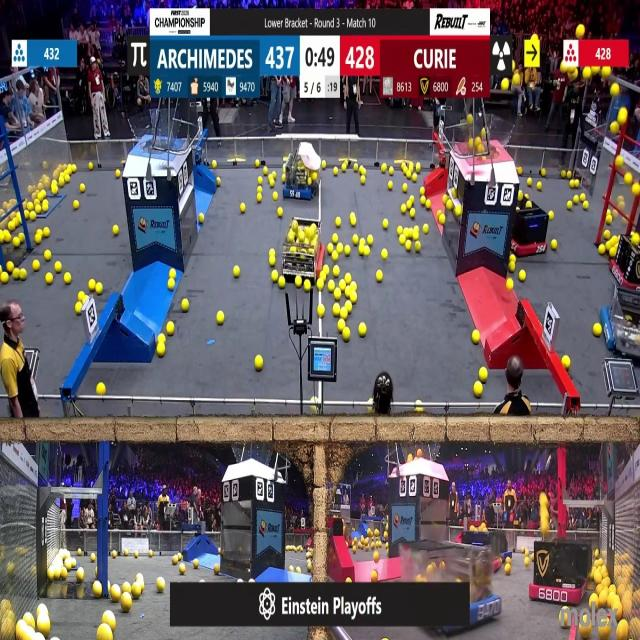ball_airborne: (539, 520, 548, 536), (575, 25, 584, 40), (620, 109, 628, 124), (609, 121, 618, 133), (610, 85, 618, 98), (616, 157, 624, 169), (602, 66, 610, 78), (632, 183, 640, 195), (584, 68, 592, 80), (632, 234, 640, 246), (477, 144, 485, 156), (569, 68, 577, 80), (626, 173, 634, 184), (501, 79, 509, 90), (514, 74, 521, 85), (467, 138, 473, 148), (467, 113, 472, 124), (474, 137, 480, 146), (417, 449, 423, 458), (482, 129, 486, 137), (409, 455, 413, 463)
ball_ground: (37, 617, 51, 636), (120, 594, 131, 612), (618, 622, 629, 640), (103, 614, 115, 630), (97, 627, 110, 640), (111, 587, 121, 602), (133, 585, 143, 599), (94, 584, 103, 598), (473, 382, 481, 397), (480, 367, 488, 381), (158, 344, 166, 358), (26, 616, 35, 628), (255, 355, 262, 370), (358, 323, 366, 336), (594, 323, 602, 336), (216, 312, 224, 325), (76, 568, 84, 581), (159, 579, 166, 593), (98, 383, 106, 395), (471, 332, 479, 344), (167, 322, 175, 334), (1, 272, 9, 284), (278, 277, 286, 289), (562, 356, 570, 368), (338, 319, 346, 331), (304, 280, 312, 292), (331, 306, 339, 318), (335, 289, 343, 301), (344, 328, 351, 341), (454, 205, 462, 216), (370, 569, 377, 581), (234, 267, 241, 279), (181, 300, 188, 312), (45, 274, 52, 286), (317, 280, 324, 292), (598, 245, 606, 255), (77, 291, 85, 301), (341, 310, 349, 320), (318, 306, 324, 319), (179, 564, 186, 575), (75, 304, 82, 315), (294, 277, 301, 288), (50, 183, 57, 194), (65, 273, 71, 285), (327, 280, 333, 292), (90, 280, 96, 292), (122, 584, 130, 593), (42, 201, 48, 213), (6, 264, 13, 274), (170, 270, 177, 280), (345, 274, 352, 284), (12, 238, 19, 248), (340, 281, 347, 291), (414, 231, 421, 241), (345, 289, 352, 299), (506, 279, 512, 290), (56, 263, 62, 274), (552, 240, 558, 251), (97, 283, 103, 294), (112, 224, 118, 235), (382, 249, 388, 260), (350, 215, 356, 226), (44, 250, 50, 261), (12, 270, 18, 281), (0, 232, 5, 245), (417, 574, 425, 582), (507, 264, 514, 273), (28, 202, 35, 211), (34, 262, 40, 272), (520, 272, 526, 282), (377, 272, 383, 282), (19, 270, 25, 280), (169, 280, 175, 290), (345, 246, 351, 256), (272, 272, 278, 282), (363, 246, 369, 256), (351, 292, 357, 302), (366, 236, 372, 246), (416, 242, 422, 252), (36, 235, 42, 245), (604, 232, 610, 242), (173, 556, 179, 566), (270, 256, 276, 266), (335, 268, 341, 278), (214, 564, 220, 574), (353, 236, 359, 246), (347, 303, 353, 313), (605, 214, 611, 224), (447, 201, 453, 211), (327, 244, 333, 254), (30, 211, 36, 221), (62, 569, 68, 579), (338, 244, 344, 254), (609, 248, 615, 258), (160, 336, 167, 344), (73, 201, 79, 210), (331, 235, 337, 244), (43, 229, 49, 238), (278, 208, 284, 217), (504, 565, 510, 574), (425, 200, 431, 209), (92, 554, 98, 563), (398, 237, 404, 246), (374, 554, 380, 563), (342, 163, 348, 172), (17, 234, 23, 243), (406, 227, 412, 236), (337, 217, 342, 227), (411, 208, 416, 218), (407, 240, 412, 250), (359, 237, 364, 247), (416, 164, 421, 174), (25, 210, 30, 220), (571, 195, 578, 202), (420, 187, 426, 195), (331, 252, 337, 260), (566, 202, 572, 210), (323, 266, 329, 274), (516, 166, 522, 174), (388, 167, 394, 175), (540, 170, 546, 178), (331, 168, 337, 176), (270, 248, 276, 256), (397, 226, 403, 234), (381, 166, 387, 174), (270, 178, 276, 186), (443, 194, 449, 202), (402, 169, 408, 177), (256, 192, 261, 201), (388, 181, 393, 190), (441, 215, 446, 224), (383, 219, 388, 228), (400, 205, 405, 214), (241, 204, 246, 213), (584, 202, 589, 211), (257, 176, 262, 185), (216, 177, 221, 186), (413, 173, 418, 182), (308, 562, 313, 571), (550, 211, 555, 220), (351, 281, 356, 290), (256, 185, 262, 192), (254, 161, 260, 168), (566, 172, 572, 179), (115, 170, 120, 178), (274, 191, 279, 199), (402, 184, 407, 192), (212, 162, 217, 170), (360, 176, 365, 184), (536, 182, 541, 190), (421, 198, 426, 206), (579, 193, 584, 201), (65, 175, 70, 183), (321, 162, 326, 170), (569, 180, 574, 188), (574, 180, 579, 188), (178, 554, 183, 562), (408, 202, 413, 210), (516, 193, 521, 201), (521, 190, 526, 198), (80, 183, 84, 192), (424, 224, 428, 233), (416, 399, 422, 405), (525, 559, 530, 566), (193, 560, 197, 568), (200, 214, 204, 222), (90, 164, 94, 172), (528, 178, 532, 186), (265, 168, 269, 176), (562, 171, 566, 179), (149, 552, 153, 560), (112, 552, 116, 560), (282, 175, 286, 183), (307, 552, 311, 560), (347, 576, 352, 582), (296, 567, 300, 574), (289, 565, 293, 572), (360, 168, 364, 175), (354, 166, 358, 173), (72, 166, 76, 173), (273, 172, 277, 179), (136, 553, 140, 560), (522, 545, 525, 552), (218, 547, 221, 553)
goal: (460, 118, 517, 160), (128, 115, 186, 152)
robot_blue: (439, 527, 505, 627), (284, 152, 320, 202)
robot_red: (532, 530, 592, 604), (283, 218, 325, 280), (608, 288, 640, 360), (509, 202, 548, 258), (611, 232, 640, 290)
